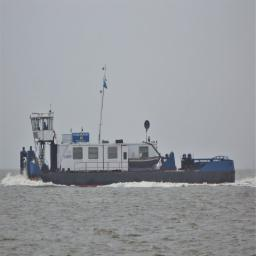tugboat: (20, 109, 238, 192)
